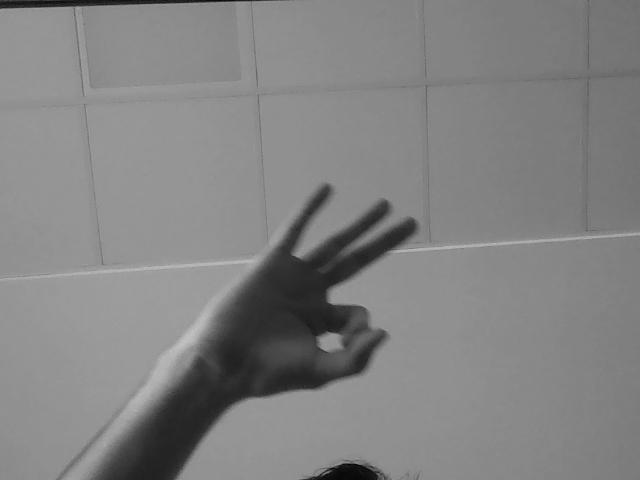OK: (228, 183, 434, 363)
